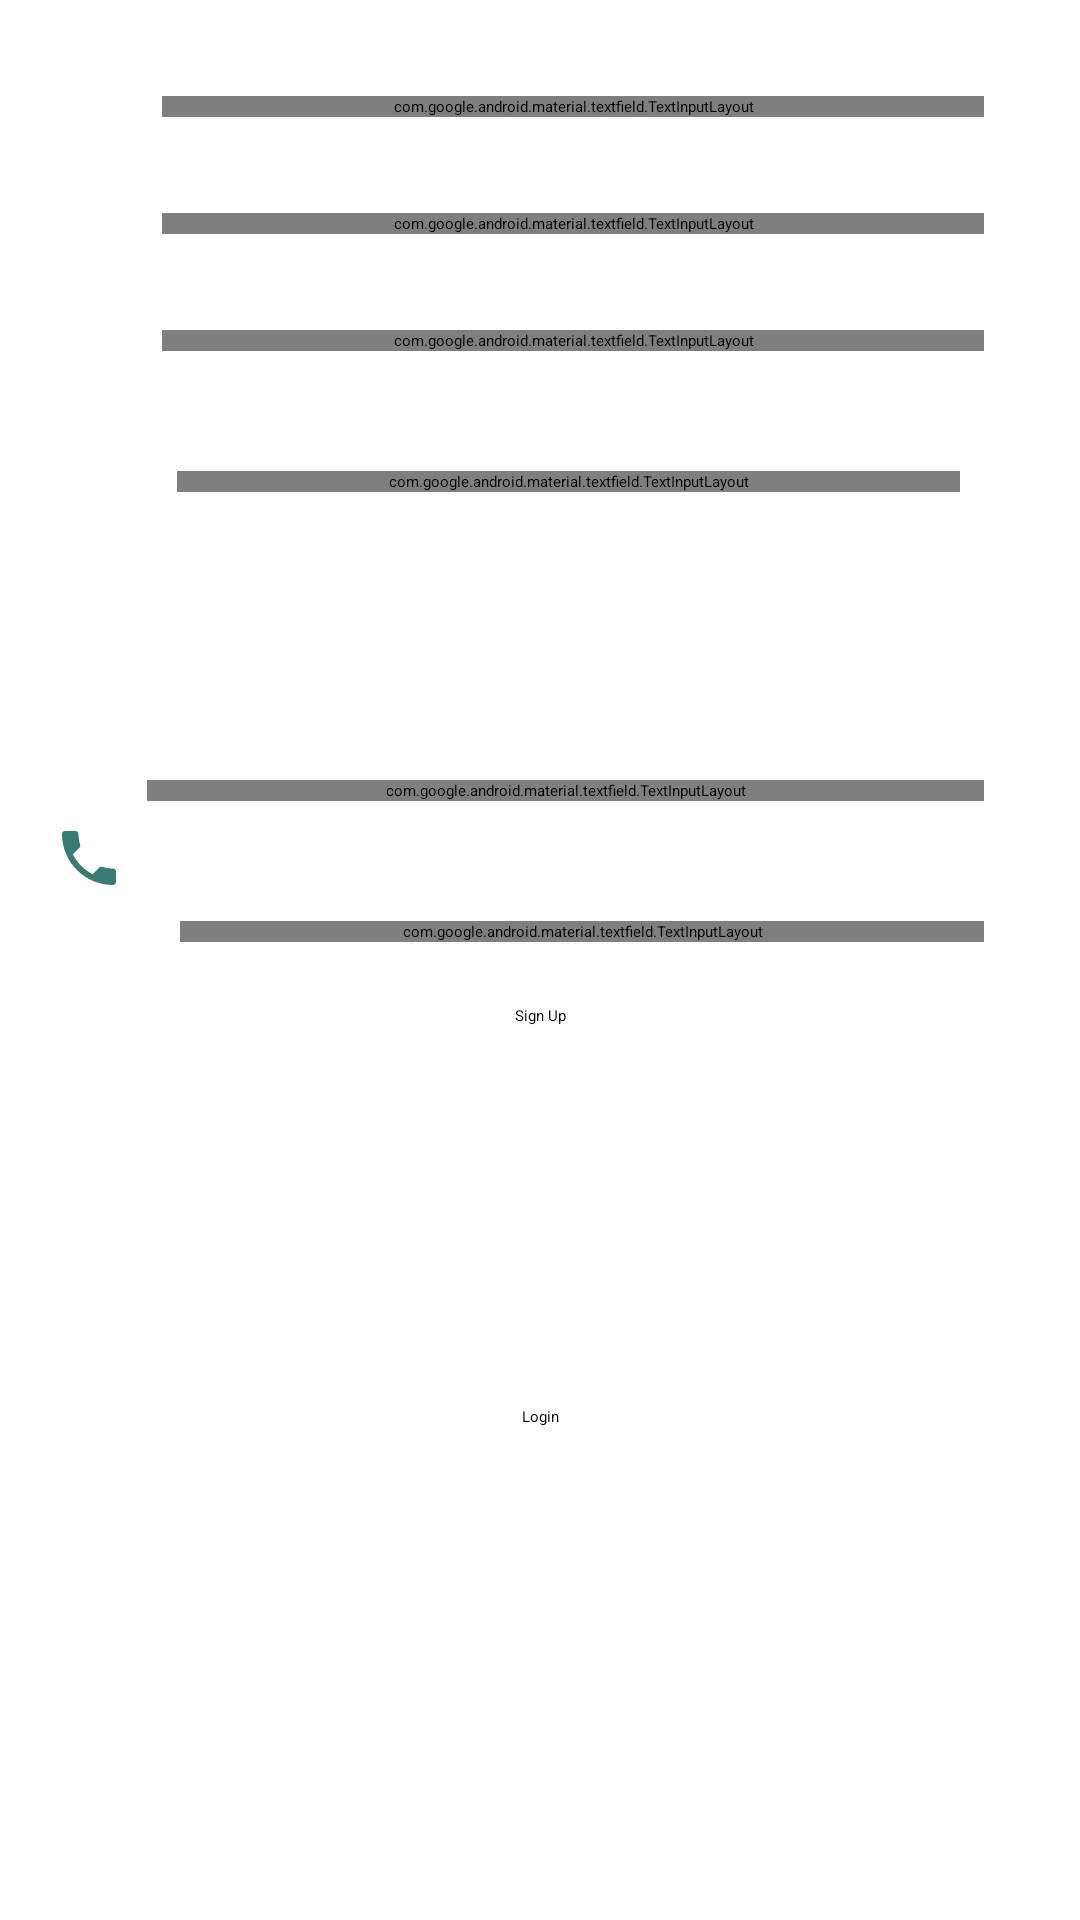

Named icons in this screenshot (1080×1920) and their centers, [x,y]:
local phone: [89,858]
